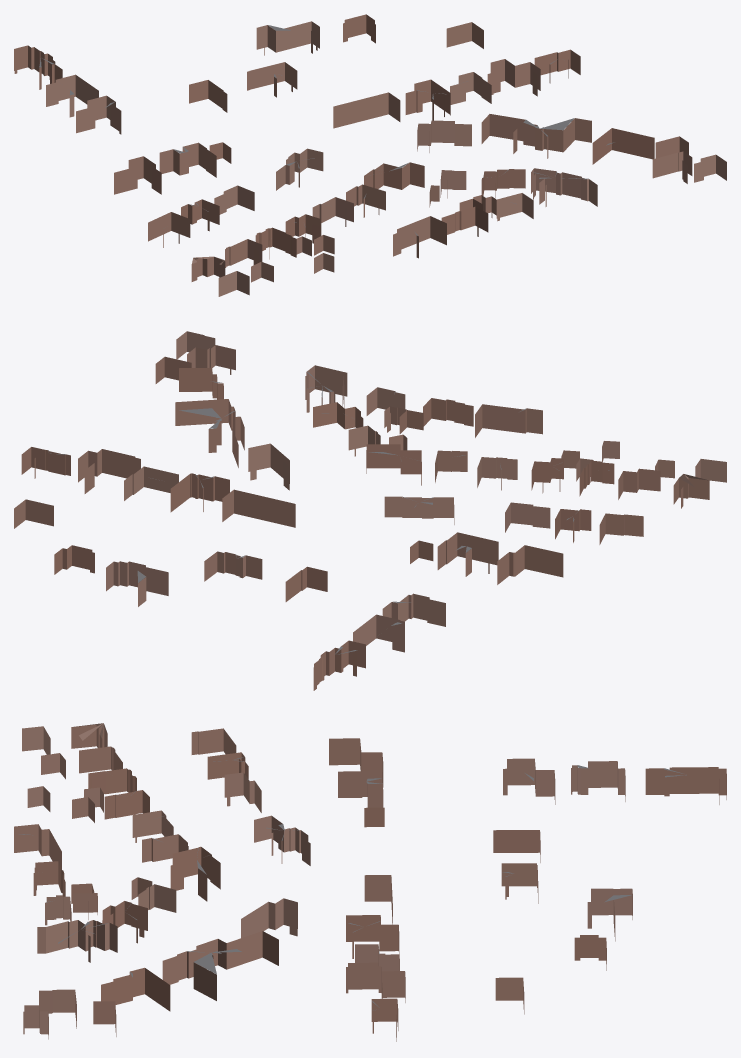
Rendered from c_1644_17820_buildings_residential.glb.
3 renders of one model, top to bottom at view 1: azimuth 30°, elevation 25°; view 2: azimuth 150°, elevation 25°; view 3: azimuth 270°, elevation 25°, orthographic. The views are drawn at different scales.
Parts seen in each view (by area): view 1: geometry_0; view 2: geometry_0; view 3: geometry_0.
Part boxes in pixels (x1,y1,x2,y2): geometry_0: (14,14,726,296); geometry_0: (14,331,726,690); geometry_0: (14,723,726,1041).
Size of the model in its own units: 264 by 11.08 by 267.
